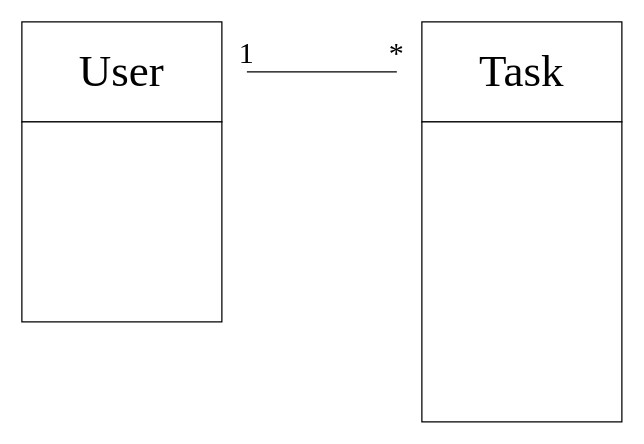
This 644x444 diagram has some shape labels left out. The shapes that lost their labels are listed below. From the top down, each one's box as (x1, y1, x2, y2) in pixels, then its label:
(21, 121, 222, 322): id (PK) username email password createdAt
(421, 121, 622, 422): id (PK) title desc dueDate priority status userID(FK) category createdAt
